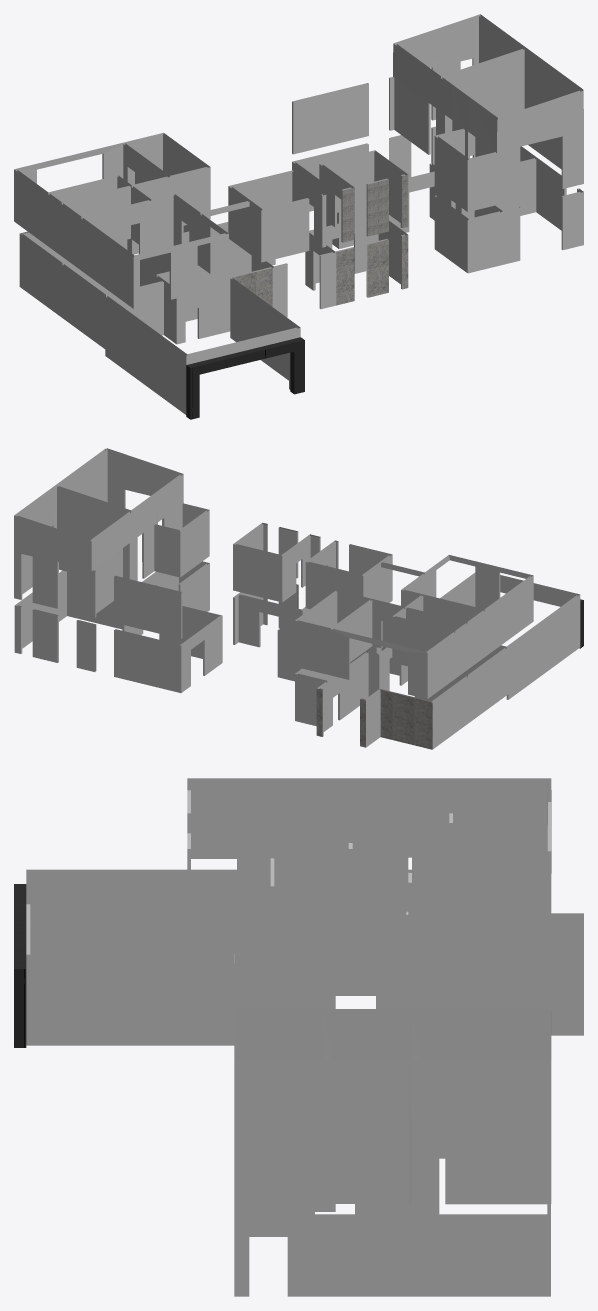
File: MCHouse-WallLantai.fbx
The picture shows the model from 3 angles, top to bottom: view 1: azimuth 30°, elevation 25°; view 2: azimuth 150°, elevation 25°; view 3: azimuth 270°, elevation 25°; orthographic projection. The views are drawn at different scales.
Visible parts, largest first — view 1: MCHouse-WallLantai, MCHouse-Garasi; view 2: MCHouse-WallLantai; view 3: MCHouse-WallLantai, MCHouse-Garasi.
Part boxes in pixels (x1,y1,x2,y2): MCHouse-WallLantai: (14,14,583,414); MCHouse-Garasi: (186,337,304,419); MCHouse-WallLantai: (14,448,580,749); MCHouse-WallLantai: (26,778,583,1296); MCHouse-Garasi: (14,884,26,1047).
Bounding box in the file's own units: 3303 × 1100 × 2295.
